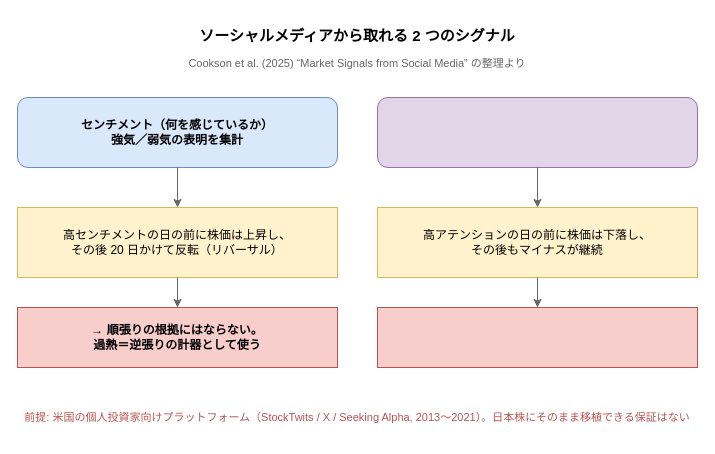
The diagram is 715 pixels wide and 454 high, and some of its shapes have lost their labels. The box of each missing label's shape, as (x1, y1, x2, y2) in pixels:
→ 注目の急増は「まだ下がる」の側。 出尽くし判定は投稿量の“減衰”で見る: (376, 306, 698, 368)
アテンション（何に注目しているか） 言及数・投稿量を集計: (376, 96, 698, 168)
